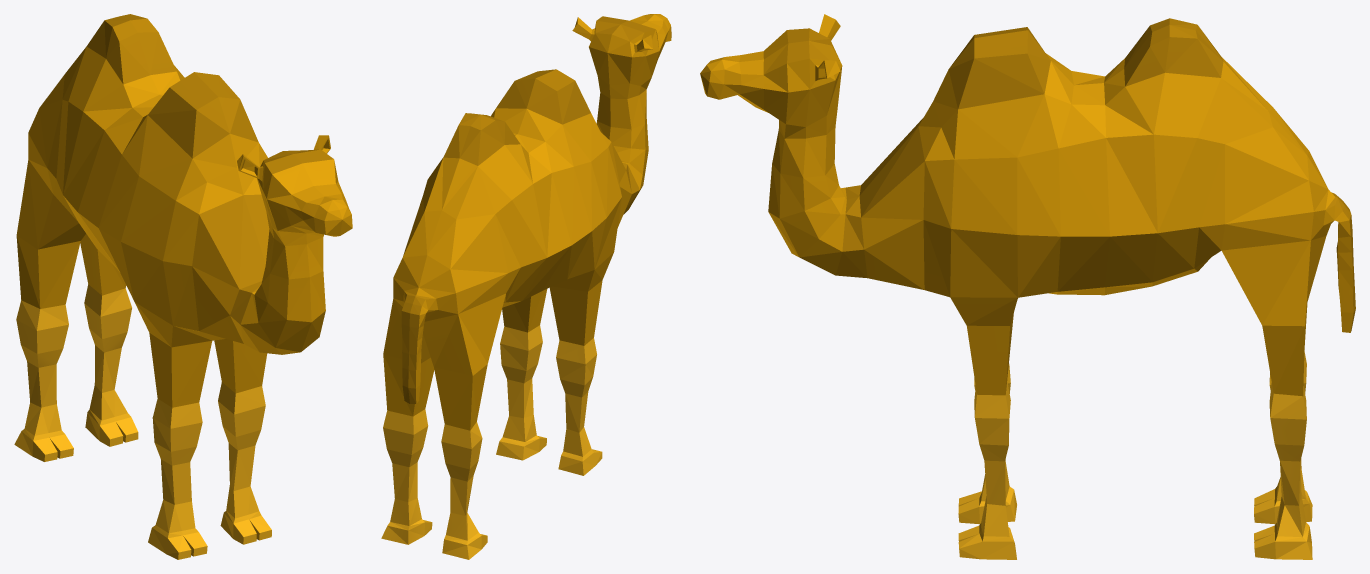
The model's file is camel.gltf.
3 renders of one model, left to right at view 1: azimuth 30°, elevation 25°; view 2: azimuth 150°, elevation 25°; view 3: azimuth 270°, elevation 25°, orthographic. The views are drawn at different scales.
Parts seen in each view (by area): view 1: Sphere; view 2: Sphere; view 3: Sphere.
Part boxes in pixels (box(x1,y1,x2,y2)): Sphere: box(14, 14, 352, 559); Sphere: box(381, 14, 671, 559); Sphere: box(700, 14, 1355, 559).
Size of what is drawn, in the model's own units: 3 by 8.16 by 9.54.
